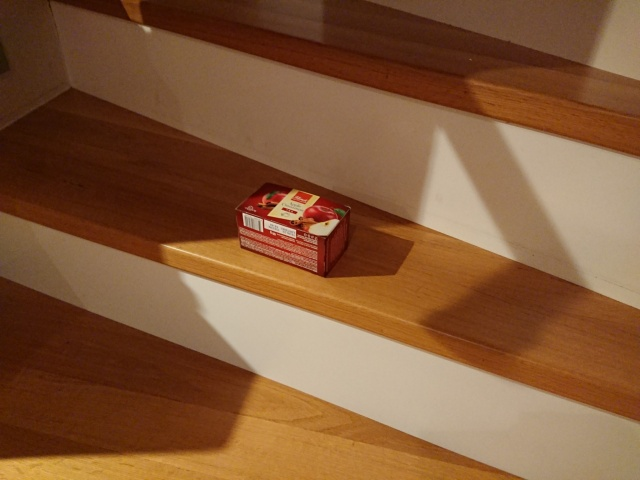Franck Apple Cinnamon Tea 60g: (231, 179, 354, 280)
